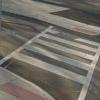Crosswalk: (12, 20, 83, 99)
